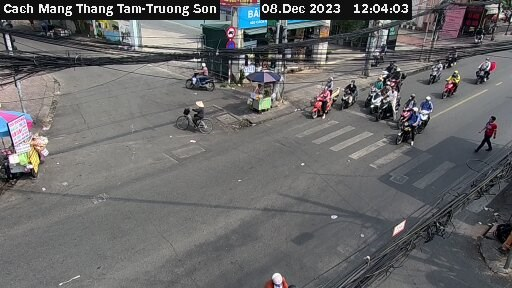motorbike: (396, 115, 426, 152), (186, 64, 220, 93), (473, 56, 501, 85), (437, 73, 472, 96), (308, 93, 336, 121), (375, 89, 401, 117), (422, 58, 450, 83), (441, 45, 467, 68), (339, 83, 361, 106)
